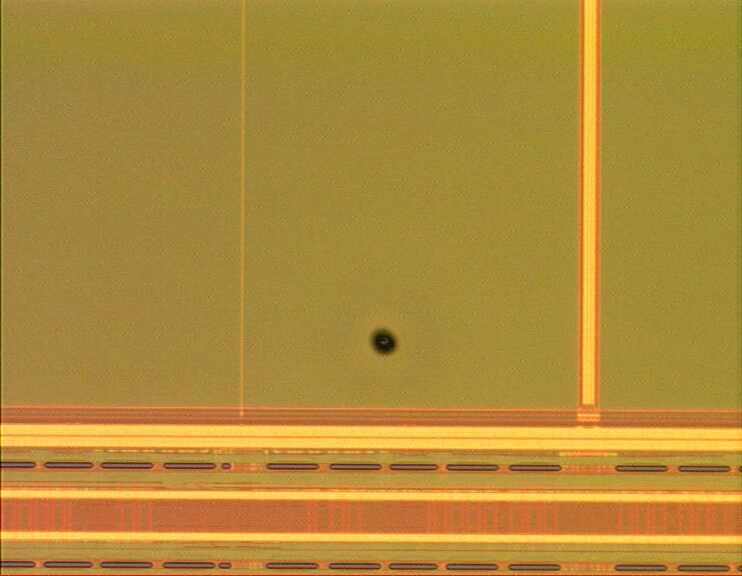PIQ PARTICLE: (367, 324, 403, 360)
